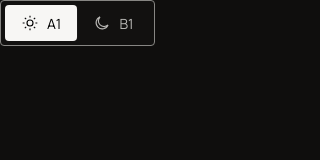
Test case: Segmented › is a named radio group that moves the selection on click
This screenshot has width=320, height=160.
Expected: the element named "G1" is shown, [0,0,155,46]
Click the radio button labelled "B1" at (114,23), box [94,14,134,32]
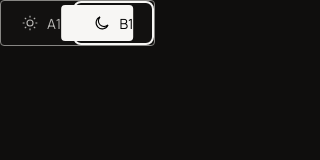
Now the radio button labelled "B1" has attribute data-checked="true", box [94,14,134,32]
Now the radio button labelled "B1" is checked, box [94,14,134,32]
